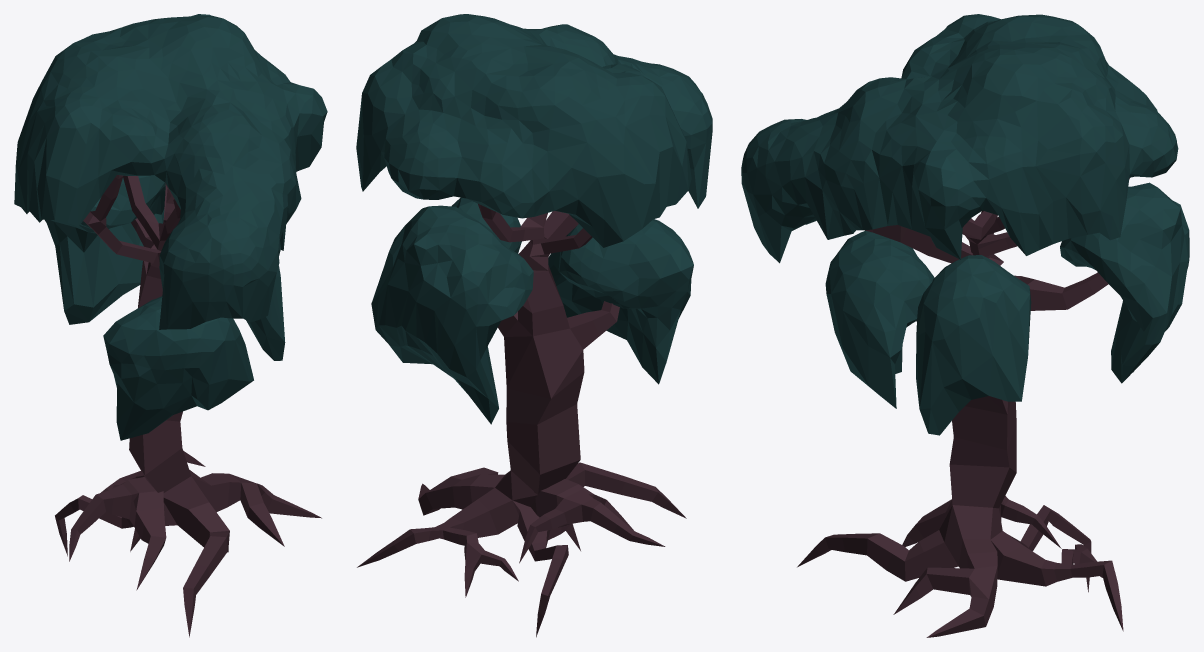
Rendered from TreePackage.fbx_Tree_001.fbx.
3 renders of one model, left to right at view 1: azimuth 30°, elevation 25°; view 2: azimuth 150°, elevation 25°; view 3: azimuth 270°, elevation 25°, orthographic. The views are drawn at different scales.
Parts seen in each view (by area): view 1: Mball.004, Plane.010; view 2: Mball.004, Plane.010; view 3: Mball.004, Plane.010.
Boxes of the visible parts, x1,y1,x2,y2 form: Mball.004: (14, 14, 327, 440); Plane.010: (55, 175, 321, 637); Mball.004: (356, 14, 712, 424); Plane.010: (357, 204, 686, 637); Mball.004: (741, 14, 1189, 435); Plane.010: (797, 178, 1129, 637).
Bounding box in the file's own units: 636 × 1180 × 811.
